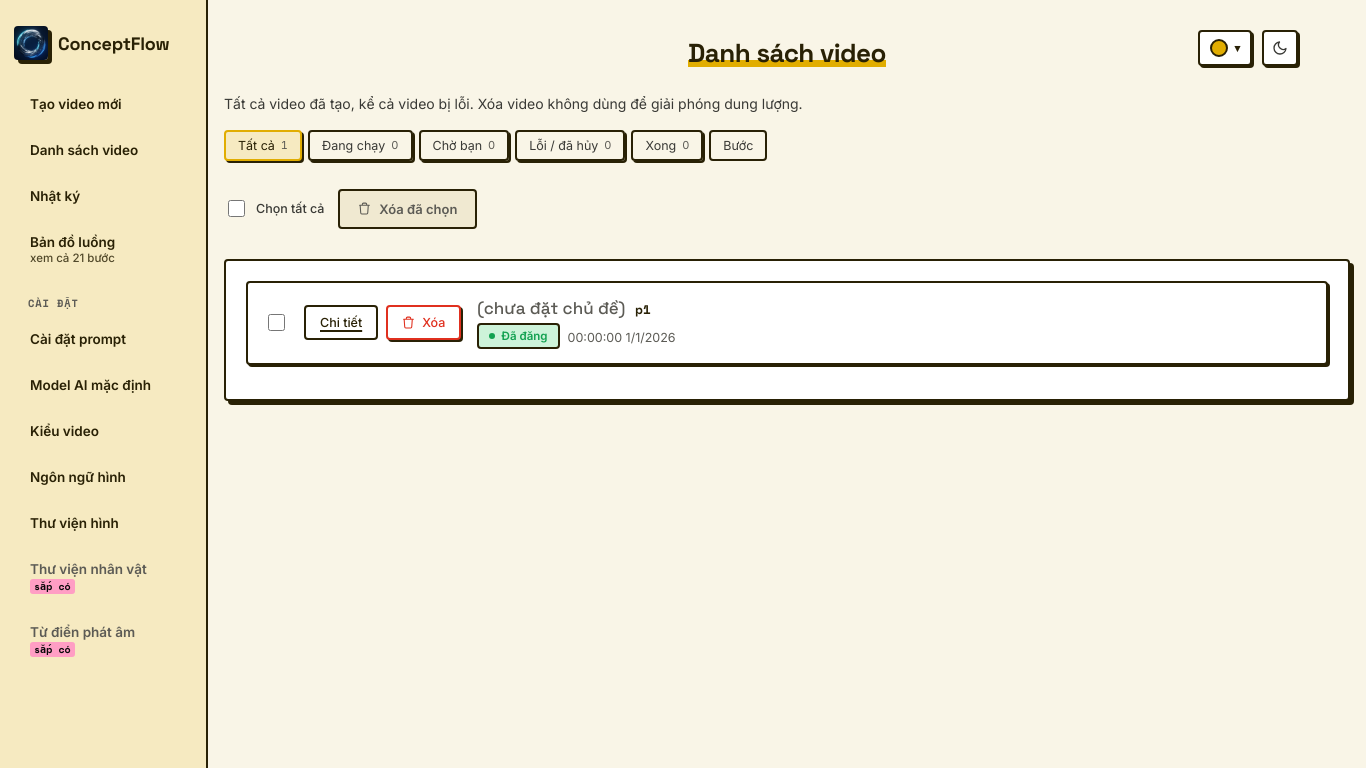
Scenario: VideoListPage › does not delete when the user cancels the confirmation
Check: the element with test id "video-row-p1" is shown, box x1=246 y1=281 x2=1328 y2=365
Click the button with test id "delete-button-p1" at (424,323), box x1=386 y1=305 x2=461 y2=340
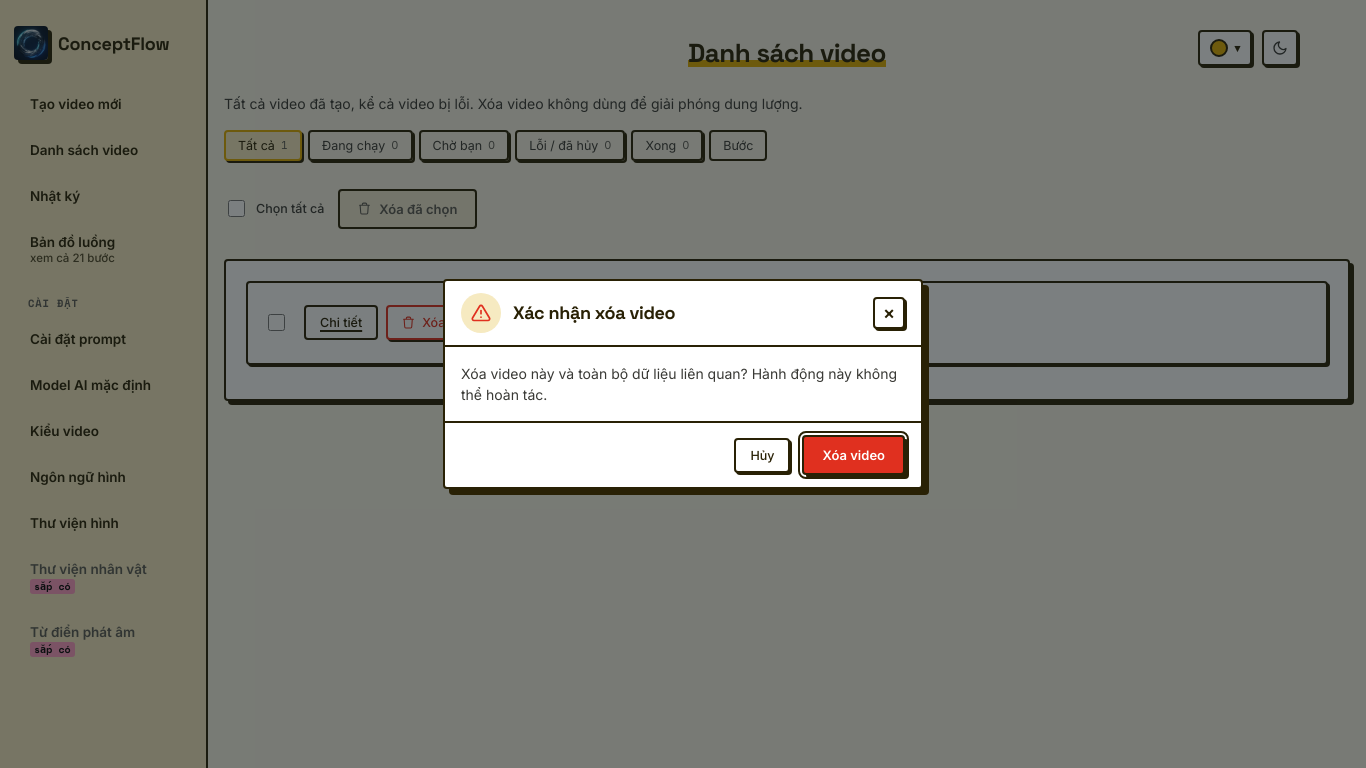
Click the button with test id "confirm-modal-cancel" at (762,455), box x1=734 y1=438 x2=790 y2=472
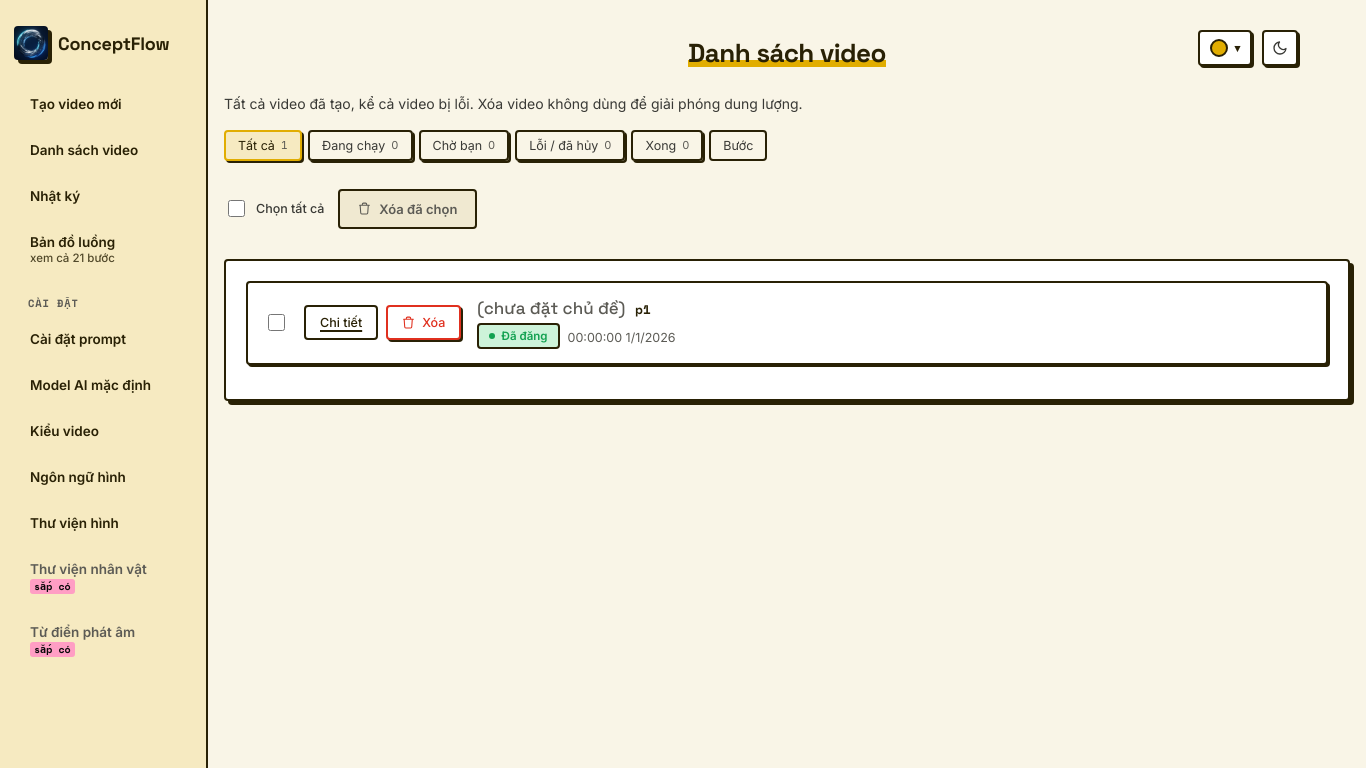
Check: the element with test id "video-row-p1" is shown, box x1=246 y1=281 x2=1328 y2=365
Check: the dialog with test id "confirm-modal" is gone
